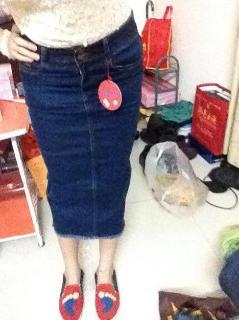long sleeve top: (0, 0, 131, 59)
skirt: (17, 9, 143, 240)
